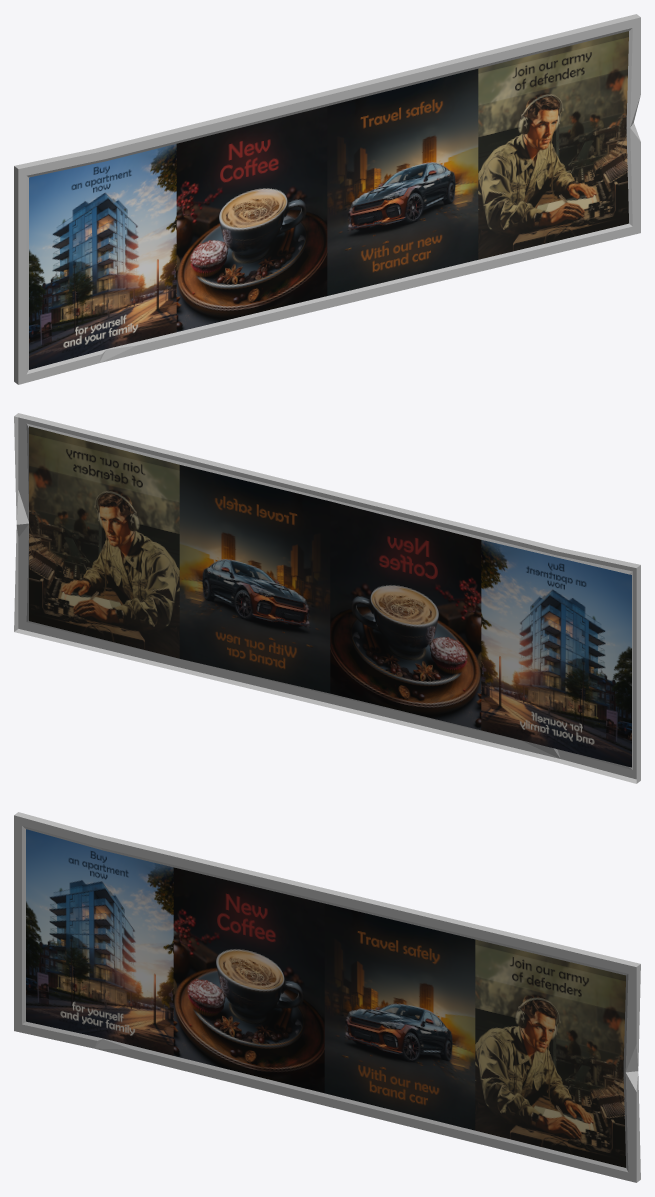
The model's file is SM_Banner_03.fbx.
The picture shows the model from 3 angles, top to bottom: view 1: azimuth 30°, elevation 25°; view 2: azimuth 150°, elevation 25°; view 3: azimuth 330°, elevation 25°; orthographic projection.
Visible parts, largest first — view 1: SM_Banner_03; view 2: SM_Banner_03; view 3: SM_Banner_03.
Part boxes in pixels (bbox=[...]): SM_Banner_03: bbox=[14, 14, 640, 384]; SM_Banner_03: bbox=[14, 413, 640, 783]; SM_Banner_03: bbox=[14, 812, 640, 1182].
Bounding box in the file's own units: 400 × 132 × 5.
